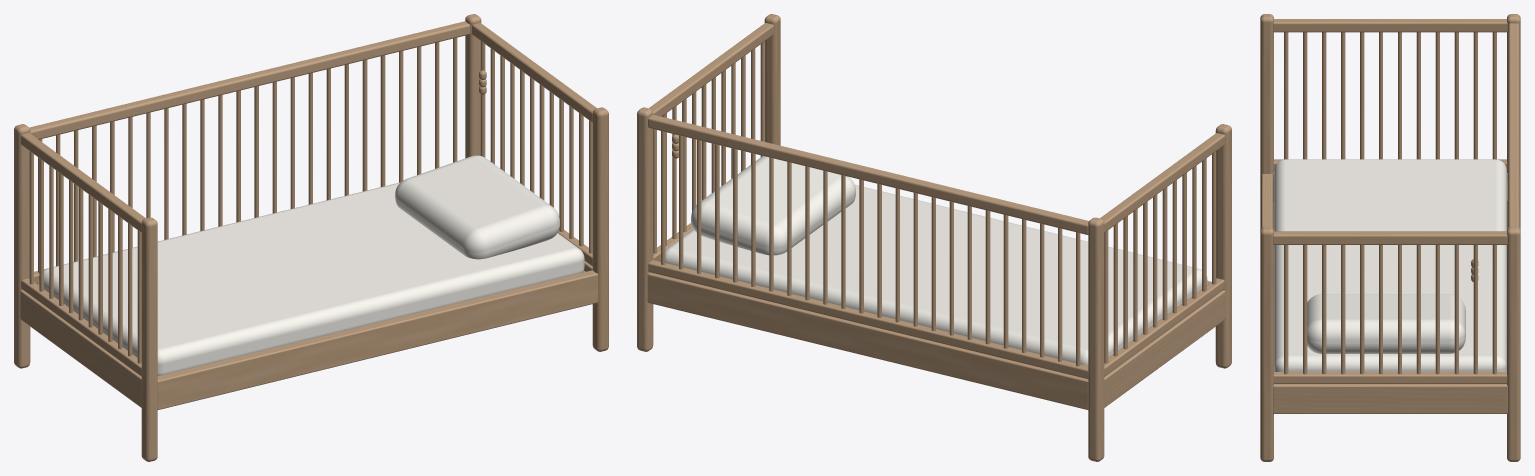
File: oak_junior_bed.glb
3 renders of one model, left to right at view 1: azimuth 30°, elevation 25°; view 2: azimuth 150°, elevation 25°; view 3: azimuth 270°, elevation 25°, orthographic. The views are drawn at different scales.
Visible parts, largest first — view 1: Ivory mattress, Long lower apron, Corner post (×4), Ivory pillow, Long upper guard rail, End upper guard rail (×2), End lower apron, End lower guard rail, End spindle -1 05, Long guard spindle -0.49 18, Long guard spindle -0.49 19, End spindle 1 06 (+29 smaller); view 2: Ivory mattress, Long lower apron, Corner post (×4), Ivory pillow, Long upper guard rail, Long lower guard rail, End upper guard rail (×2), End lower apron, End lower guard rail, Long guard spindle -0.49 05, Long guard spindle -0.49 04, End spindle -1 06 (+35 smaller); view 3: Ivory mattress, Corner post (×4), Ivory pillow, End lower apron, End upper guard rail (×2), End lower guard rail, Long upper guard rail, End spindle 1 00, End spindle 1 01, End spindle 1 02, End spindle 1 09, End spindle 1 10 (+20 smaller).
Boxes of the visible parts, box(x1,y1,x2,y2) form: Ivory mattress: box(38, 182, 584, 375); Long lower apron: box(157, 270, 598, 409); Corner post (×4): box(14, 14, 608, 461); Ivory pillow: box(395, 155, 559, 259); Long upper guard rail: box(29, 21, 470, 139); End upper guard rail (×2): box(20, 23, 596, 232); End lower apron: box(20, 290, 141, 407); End lower guard rail: box(21, 278, 141, 376); End spindle -1 05: box(78, 187, 83, 320); Long guard spindle -0.49 18: box(362, 59, 367, 191); Long guard spindle -0.49 19: box(380, 55, 385, 186); End spindle 1 06: box(539, 84, 544, 200); Ivory mattress: box(665, 185, 1207, 365); Long lower apron: box(647, 272, 1088, 409); Corner post (×4): box(637, 14, 1231, 461); Ivory pillow: box(691, 156, 855, 255); Long upper guard rail: box(648, 114, 1088, 234); Long lower guard rail: box(648, 260, 1088, 378); End upper guard rail (×2): box(649, 23, 1225, 232); End lower apron: box(1104, 290, 1225, 407); End lower guard rail: box(1104, 278, 1224, 376); Long guard spindle -0.49 05: box(985, 210, 990, 344); Long guard spindle -0.49 04: box(1003, 214, 1008, 348); End spindle -1 06: box(1162, 187, 1167, 320); Ivory mattress: box(1274, 159, 1506, 371); Corner post (×4): box(1260, 14, 1520, 461); Ivory pillow: box(1307, 294, 1465, 353); End lower apron: box(1273, 384, 1507, 413); End upper guard rail (×2): box(1273, 19, 1507, 244); End lower guard rail: box(1273, 372, 1507, 383); Long upper guard rail: box(1508, 23, 1518, 227); End spindle 1 00: box(1492, 245, 1496, 374); End spindle 1 01: box(1473, 245, 1477, 374); End spindle 1 02: box(1454, 245, 1458, 374); End spindle 1 09: box(1322, 245, 1326, 374); End spindle 1 10: box(1303, 245, 1307, 374).
Bounding box in the file's own units: 2.06 × 1.02 × 1.04.
